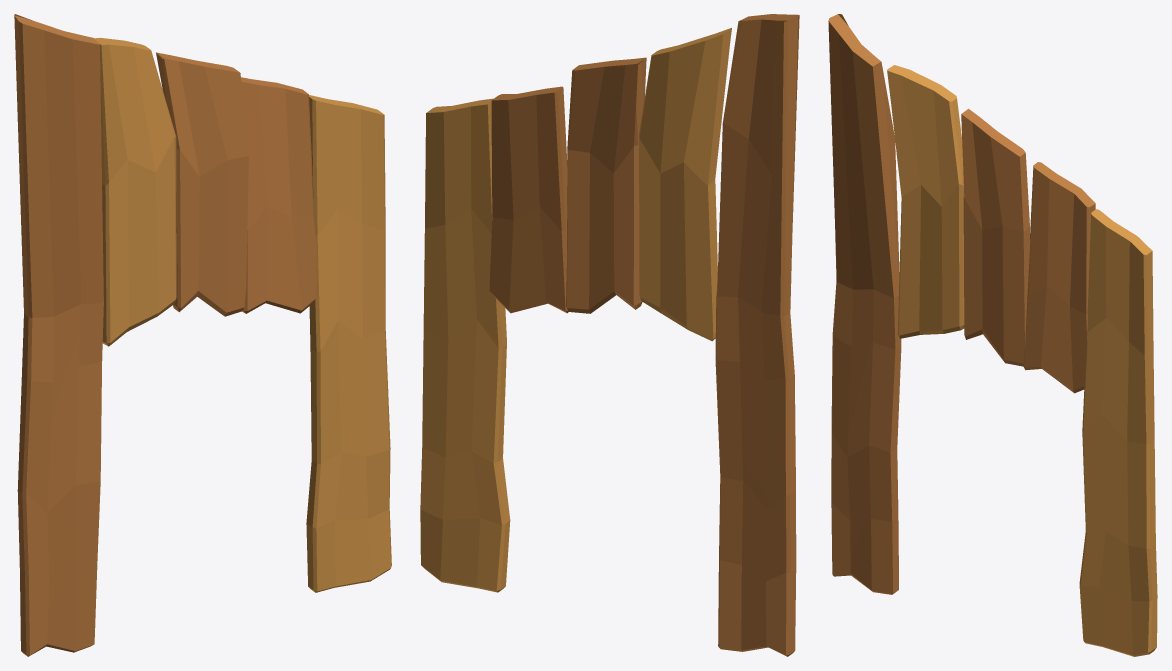
File: Beach_House_Entrance_02.fbx
3 views of the same model, side by side, from view 1: azimuth 30°, elevation 25°; view 2: azimuth 150°, elevation 25°; view 3: azimuth 330°, elevation 25° (orthographic). The views are drawn at different scales.
Visible parts, largest first — view 1: Beach_House_Entrance_02; view 2: Beach_House_Entrance_02; view 3: Beach_House_Entrance_02.
Boxes of the visible parts, bbox=[...] form: Beach_House_Entrance_02: bbox=[14, 14, 391, 656]; Beach_House_Entrance_02: bbox=[420, 14, 799, 656]; Beach_House_Entrance_02: bbox=[828, 14, 1157, 656].
Size of the model in its own units: 4.3 by 7.14 by 0.6177.
